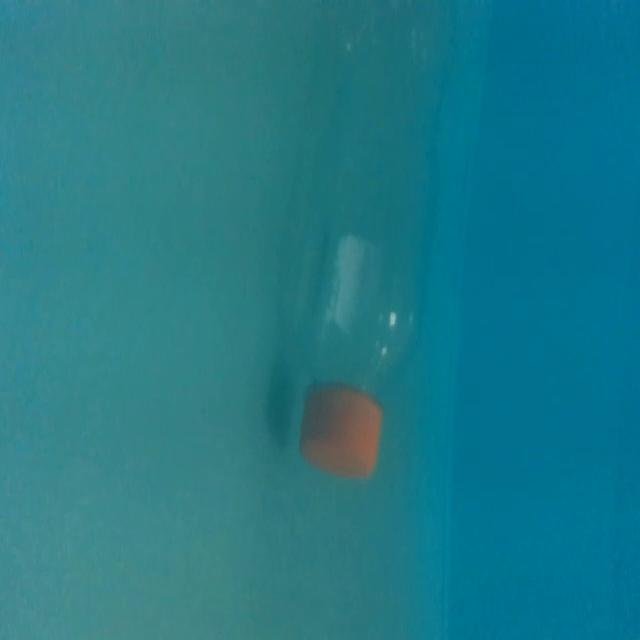plastic bottle: (285, 2, 460, 482)
